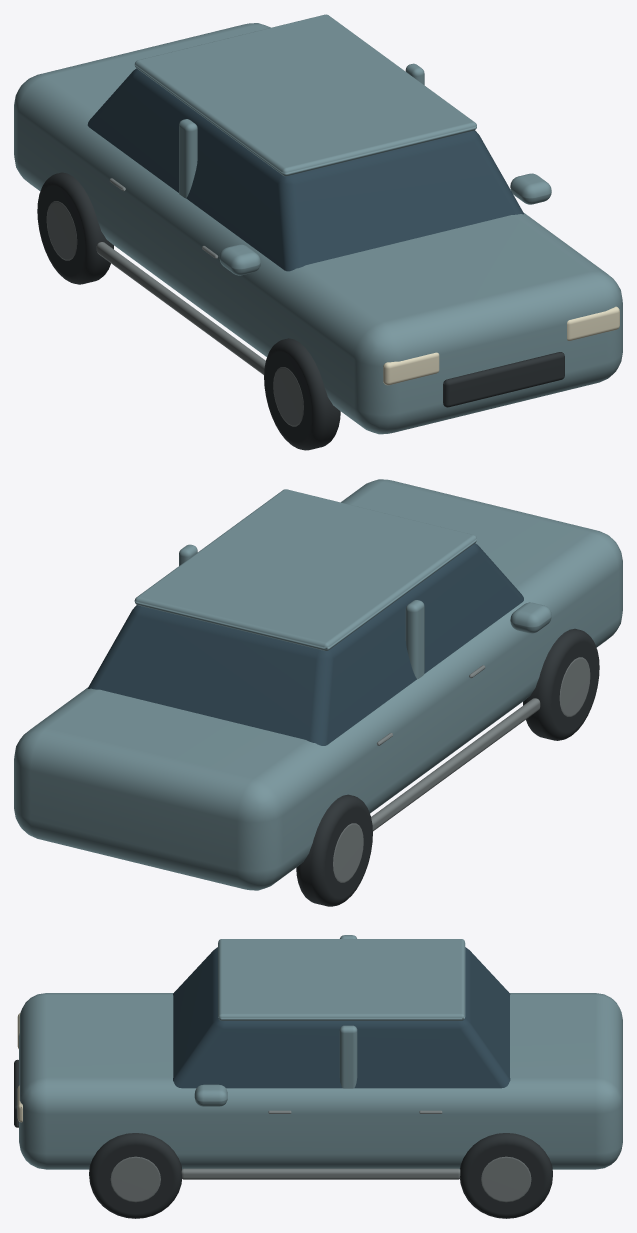
Rendered from car-miniature.glb.
3 renders of one model, top to bottom at view 1: azimuth 30°, elevation 25°; view 2: azimuth 150°, elevation 25°; view 3: azimuth 270°, elevation 25°, orthographic. The views are drawn at different scales.
Visible parts, largest first — view 1: paint, glass, rubber, frame, lamp; view 2: paint, glass, rubber, frame; view 3: paint, glass, rubber, frame.
Boxes of the visible parts, x1,y1,x2,y2 form: paint: [14, 14, 622, 434]; glass: [87, 68, 523, 271]; rubber: [37, 172, 564, 450]; frame: [46, 178, 303, 426]; lamp: [383, 306, 619, 385]; paint: [14, 479, 622, 890]; glass: [87, 543, 523, 745]; rubber: [296, 628, 599, 906]; frame: [333, 657, 590, 882]; paint: [19, 935, 622, 1169]; glass: [173, 947, 510, 1088]; rubber: [14, 1059, 552, 1218]; frame: [110, 1110, 531, 1202].
Size of the model in its own units: 2.2 by 1.51 by 4.44.
